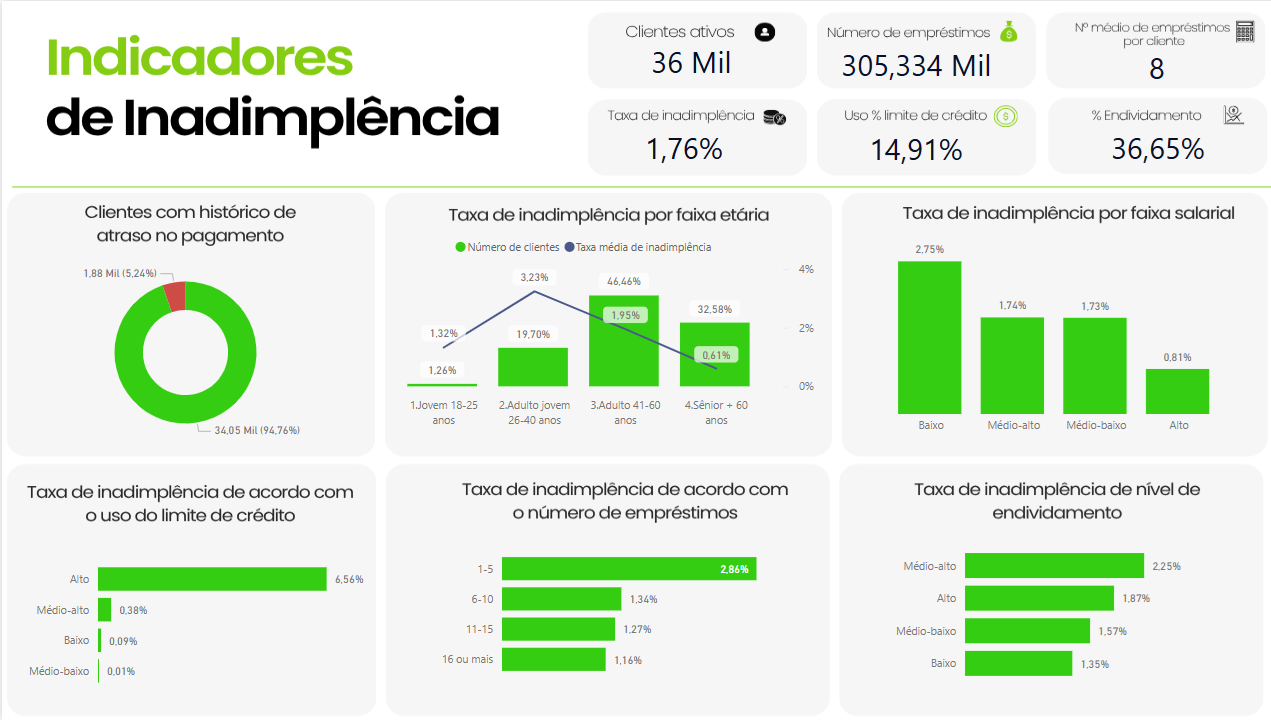

The dashboard page shown, as its layout file describes it:
{"tool":"powerbi","page":{"name":"Inadimplência por segmento","canvas":[1280,720],"ordinal":0},"visuals":[{"type":"card","fields":{"Values":["CountNonNull(base_analise.id_usuario)"]},"box":[575,10,228.8,102.5],"z":0},{"type":"card","fields":{"Values":["base_analise.flag_inadimplencia dividido por Contagem de id_usuario"]},"box":[592.3,96.2,180,102.3],"z":1000},{"type":"card","fields":{"Values":["Sum(base_analise.total_emprestimos)"]},"box":[816.7,15.6,195.6,96.7],"z":2000},{"type":"card","fields":{"Values":["base_analise.total_emprestimos dividido por Contagem de id_usuario"]},"box":[1073.3,22.2,163.3,90],"z":3000},{"type":"lineStackedColumnComboChart","title":"Taxa de inadimplência por faixa etária","fields":{"Category":["base_analise.faixa_etaria"],"Y":["CountNonNull(base_analise.id_usuario)"],"Y2":["base_analise.flag_inadimplencia dividido por Contagem de id_usuario"]},"box":[350,226.7,466.7,207.8],"z":4000},{"type":"clusteredColumnChart","title":"Taxa de inadimplência por faixa de salário","fields":{"Category":["base_analise.classif_salario"],"Y":["base_analise.flag_inadimplencia dividido por Contagem de id_usuario"]},"box":[857.8,226.7,390,215.6],"z":5000},{"type":"donutChart","title":"Clientes com atraso no pagamento","fields":{"Category":["base_analise.tem_atrasos"],"Y":["CountNonNull(base_analise.id_usuario)"]},"box":[0,252.2,380,197.8],"z":6000},{"type":"barChart","title":"Inadimplência por uso do limite de crédito","fields":{"Y":["base_analise.flag_inadimplencia dividido por Contagem de id_usuario"],"Category":["base_analise.classif_uso_credito"]},"box":[16.7,541.1,363.3,158.9],"z":7000},{"type":"barChart","title":"Inadimplência por nível de endividamento","fields":{"Y":["base_analise.flag_inadimplencia dividido por Contagem de id_usuario"],"Category":["base_analise.classif_dividas"]},"box":[884.4,525.6,322.2,168.9],"z":8000},{"type":"barChart","title":"Inadimplência de acordo com o nº de empréstimos","fields":{"Y":["base_analise.flag_inadimplencia dividido por Contagem de id_usuario"],"Category":["base_analise.classif_qtdade_emprestimos"]},"box":[430,531.1,342.2,156.7],"z":9000},{"type":"card","fields":{"Values":["Median(base_analise.percentual_uso_limite_credito)"]},"box":[804.4,96.7,220,102.2],"z":10000},{"type":"card","fields":{"Values":["Median(base_analise.indice_endividamento)"]},"box":[1045.6,95.6,220,102.2],"z":11000}]}

Visuals, with their boxes in screenshot pixels (x1, y1, x2, y2), scaled from the page's 1280x720 canvas onto the 1271x720 screenshot:
card - CountNonNull(base_analise.id_usuario): detection(571, 10, 798, 112)
card - base_analise.flag_inadimplencia dividido por Contagem de id_usuario: detection(588, 96, 767, 198)
card - Sum(base_analise.total_emprestimos): detection(811, 16, 1005, 112)
card - base_analise.total_emprestimos dividido por Contagem de id_usuario: detection(1066, 22, 1228, 112)
"Taxa de inadimplência por faixa etária" lineStackedColumnComboChart: detection(348, 227, 811, 434)
"Taxa de inadimplência por faixa de salário" clusteredColumnChart: detection(852, 227, 1239, 442)
"Clientes com atraso no pagamento" donutChart: detection(0, 252, 377, 450)
"Inadimplência por uso do limite de crédito" barChart: detection(17, 541, 377, 700)
"Inadimplência por nível de endividamento" barChart: detection(878, 526, 1198, 694)
"Inadimplência de acordo com o nº de empréstimos" barChart: detection(427, 531, 767, 688)
card - Median(base_analise.percentual_uso_limite_credito): detection(799, 97, 1017, 199)
card - Median(base_analise.indice_endividamento): detection(1038, 96, 1257, 198)
